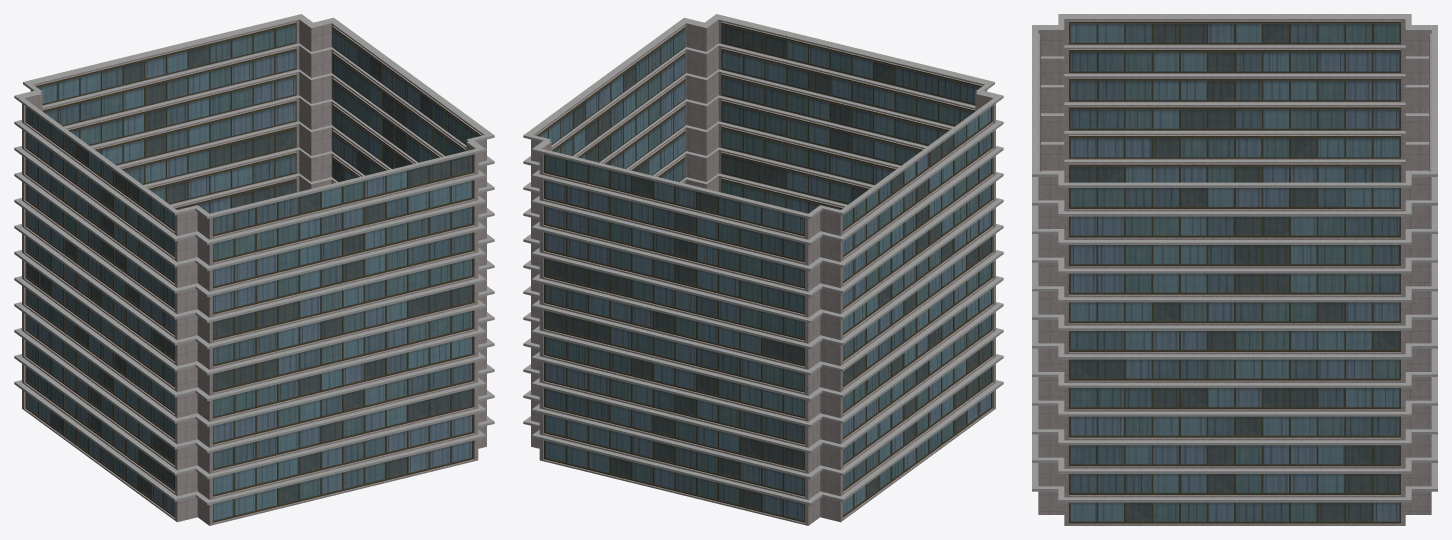
The model's file is jctBld50E_top.fbx.
3 renders of one model, left to right at view 1: azimuth 30°, elevation 25°; view 2: azimuth 150°, elevation 25°; view 3: azimuth 270°, elevation 25°, orthographic. The views are drawn at different scales.
Visible parts, largest first — view 1: jctBld50E_top_LOD0; view 2: jctBld50E_top_LOD0; view 3: jctBld50E_top_LOD0.
Boxes of the visible parts, left/top/right/bottom form: jctBld50E_top_LOD0: left=14, top=14, right=494, bottom=525; jctBld50E_top_LOD0: left=523, top=14, right=1003, bottom=525; jctBld50E_top_LOD0: left=1032, top=14, right=1437, bottom=525.
Bounding box in the file's own units: 4500 × 4200 × 4500.
